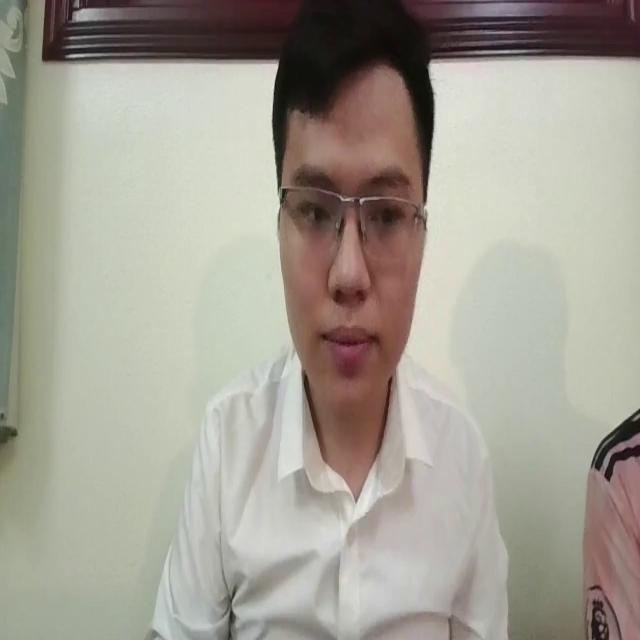student: (143, 15, 514, 640)
